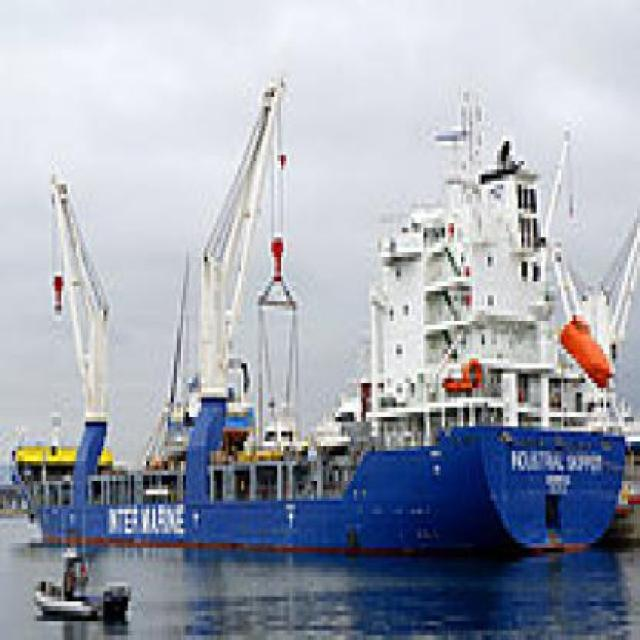container: (19, 69, 632, 578)
